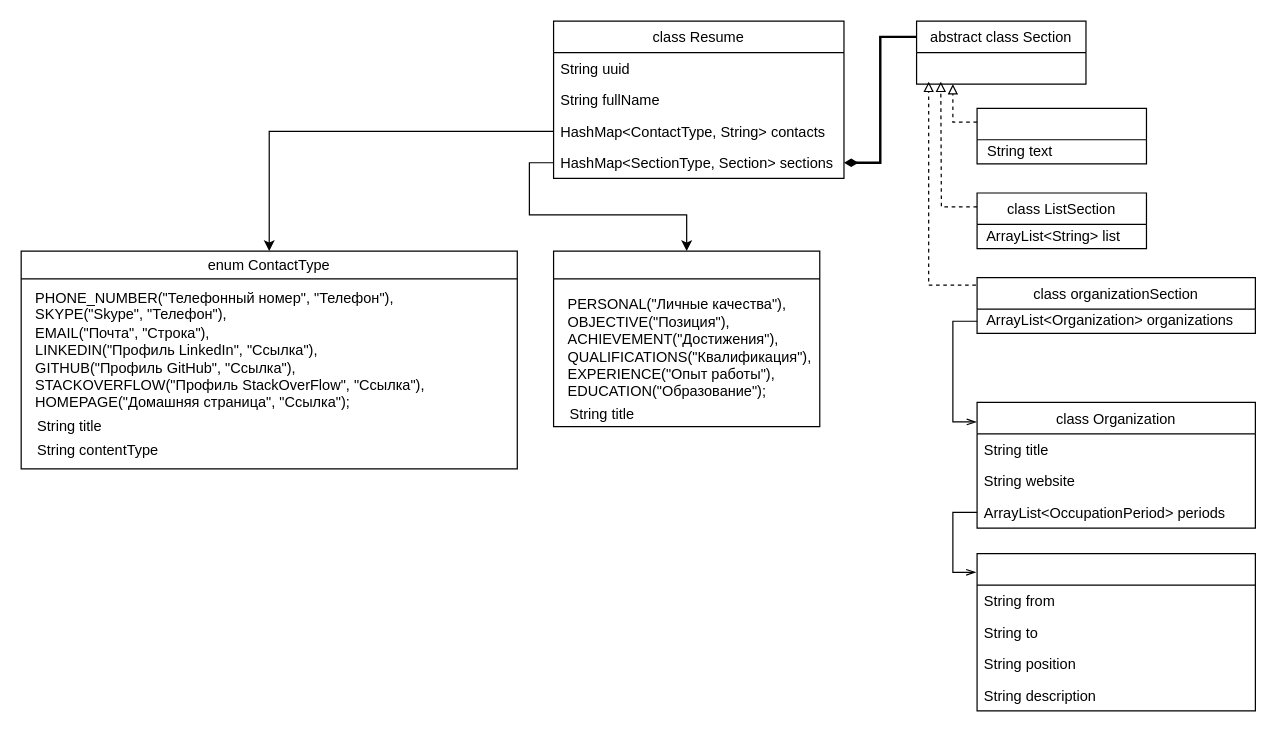
Image size: 1277x736. Some labels were removed from this diagram. Here are the shapes that lost their labels. From the top down, the box of each, then its label:
(976, 107, 1146, 164): class TextSection
(552, 250, 820, 427): enum SectionType
(976, 552, 1255, 711): class OccupationPeriod
